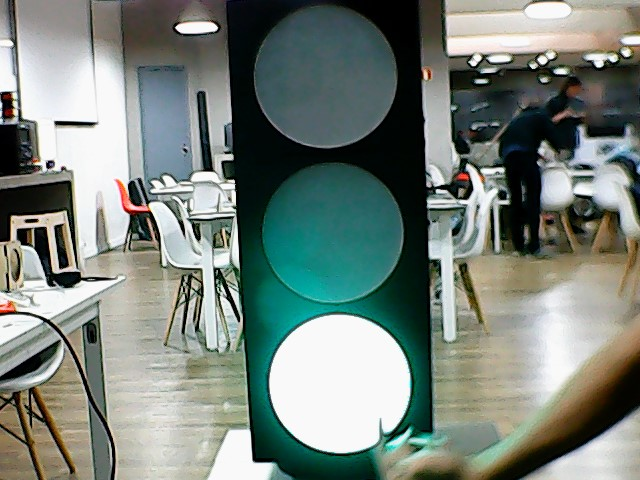verde: (225, 1, 434, 454)
